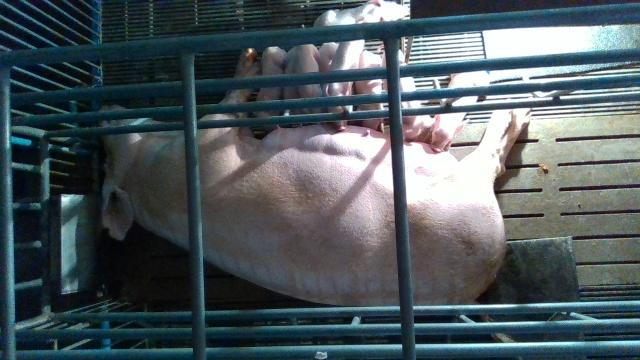piglet: (433, 69, 490, 151), (322, 40, 365, 131), (255, 47, 289, 133), (312, 0, 410, 27), (294, 44, 327, 123), (355, 50, 384, 134)
sow-sleep-lactate: (99, 47, 535, 306)
